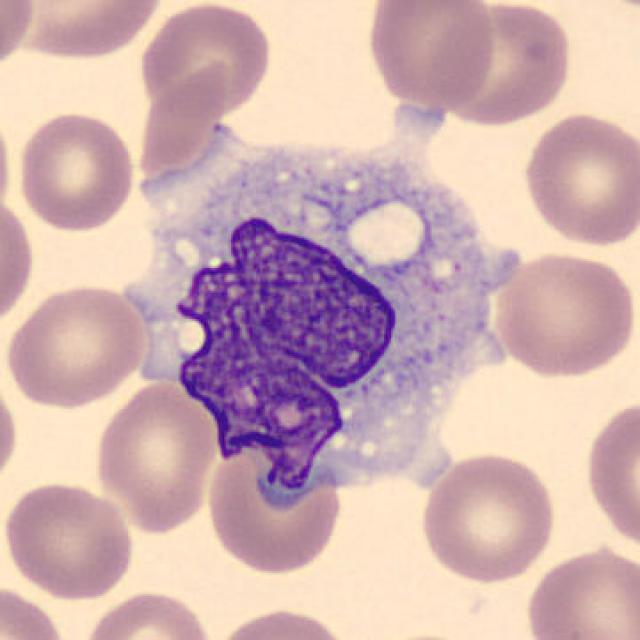Monocyte: (116, 123, 528, 508)
RBC: (90, 377, 220, 536), (202, 438, 348, 578), (2, 278, 151, 411), (416, 448, 560, 585), (489, 247, 636, 381), (432, 0, 578, 129), (0, 478, 139, 601), (135, 0, 276, 120), (519, 109, 638, 249), (14, 108, 139, 235), (362, 0, 499, 109), (521, 543, 640, 640), (5, 0, 167, 62), (582, 393, 638, 554), (80, 587, 217, 640), (0, 190, 37, 331), (211, 604, 353, 640), (0, 582, 71, 640), (0, 0, 39, 78), (0, 372, 21, 493), (0, 102, 14, 229), (364, 629, 484, 640), (578, 0, 640, 18)
